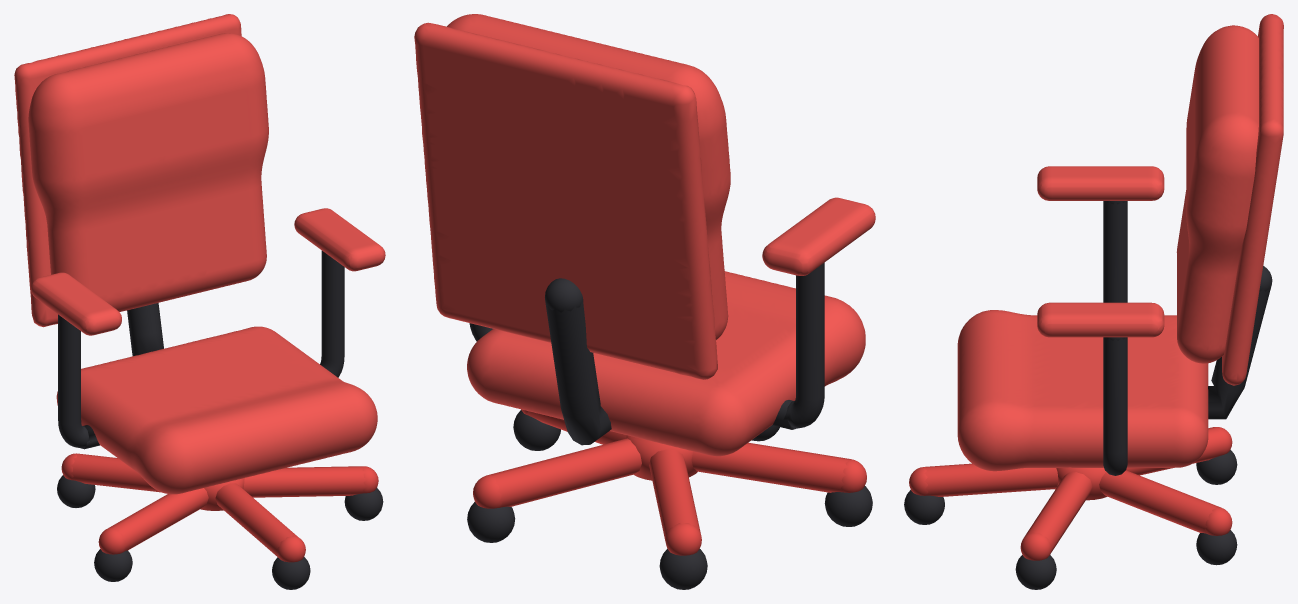
Rendered from cadeira_escritorio_vermelho.glb.
3 views of the same model, side by side, from view 1: azimuth 30°, elevation 25°; view 2: azimuth 150°, elevation 25°; view 3: azimuth 270°, elevation 25° (orthographic). The views are drawn at different scales.
Parts seen in each view (by area): view 1: cadeira, base; view 2: cadeira, base; view 3: cadeira, base.
Part boxes in pixels (x1,y1,x2,y2): cadeira: (14, 14, 385, 494); base: (57, 453, 383, 589); cadeira: (414, 14, 875, 456); base: (467, 409, 872, 589); cadeira: (957, 14, 1283, 475); base: (904, 427, 1237, 589).
Size of the model in its own units: 0.76 by 1.03 by 0.7762.
